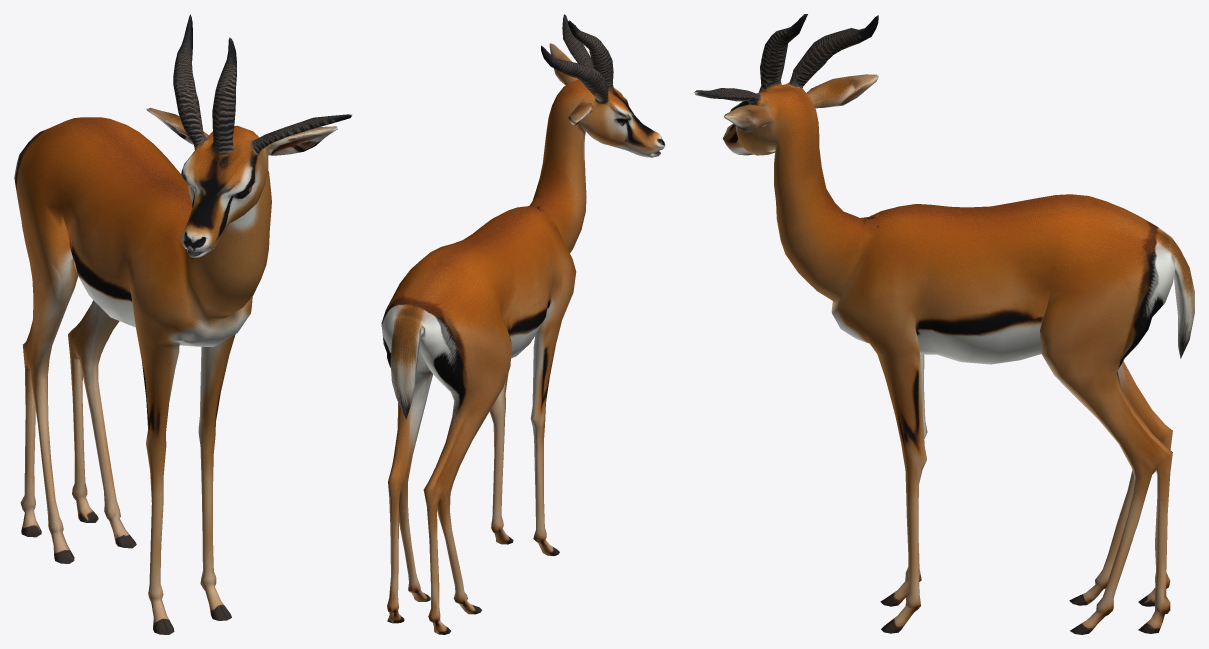
The model's file is thomsons-gazelle.glb.
The picture shows the model from 3 angles, left to right: view 1: azimuth 30°, elevation 25°; view 2: azimuth 150°, elevation 25°; view 3: azimuth 270°, elevation 25°; orthographic projection. The views are drawn at different scales.
Size of the model in its own units: 0.2598 by 1 by 0.7578.
1 material, 1 textured.
